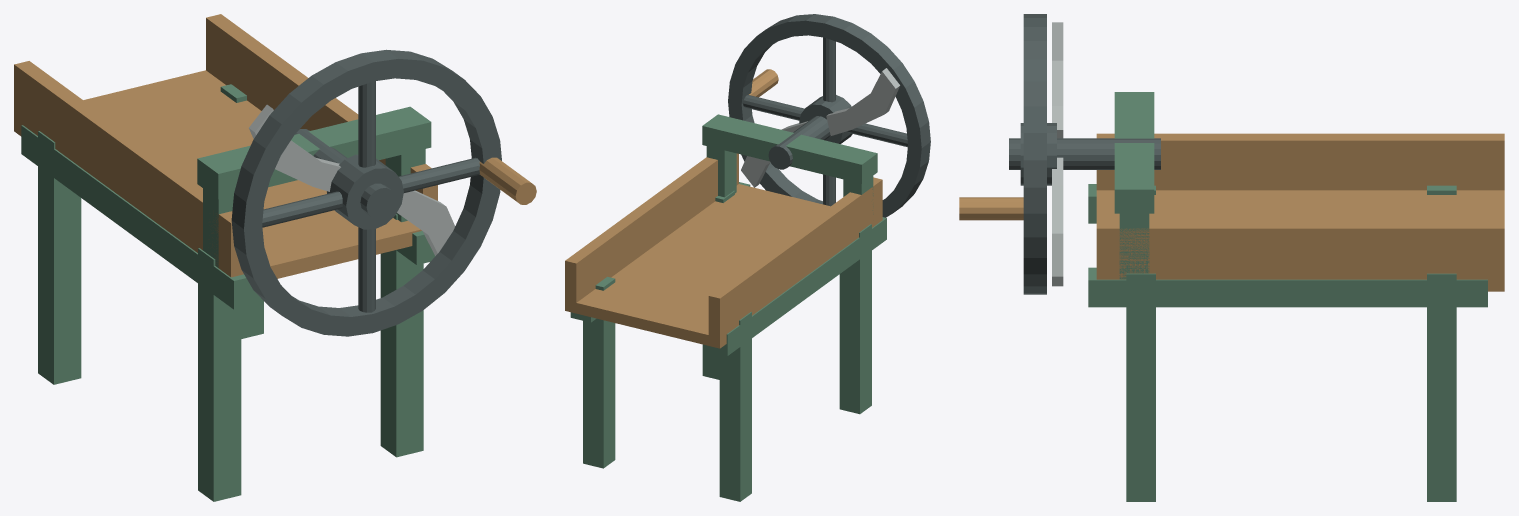
3 renders of one model, left to right at view 1: azimuth 30°, elevation 25°; view 2: azimuth 150°, elevation 25°; view 3: azimuth 270°, elevation 25°, orthographic. The views are drawn at different scales.
Parts seen in each view (by area): view 1: WholeLongOpenThickFeedTrough, WholeOpenFlywheelRim, WholeGroundLeg00, WholeGroundLeg01, WholeGroundLeg10, WholeLongitudinalSupportRail0, WholeElevatedTransverseBearingBridge, WholeWheelCentralHub, WholeFixedSweptBladeSilhouette1, WholeFixedSweptBladeSilhouette0, WholeFixedHeadAxle, WholeFixedWheelSpoke1 (+8 smaller); view 2: WholeLongOpenThickFeedTrough, WholeOpenFlywheelRim, WholeElevatedTransverseBearingBridge, WholeGroundLeg01, WholeGroundLeg00, WholeGroundLeg11, WholeLongitudinalSupportRail0, WholeFixedSweptBladeSilhouette1, WholeFixedHeadAxle, WholeElevatedAxleBridgePost1, WholeWheelCentralHub, WholeFixedWheelSpoke0 (+5 smaller); view 3: WholeLongOpenThickFeedTrough, WholeLongitudinalSupportRail1, WholeGroundLeg10, WholeGroundLeg11, WholeOpenFlywheelRim, WholeElevatedTransverseBearingBridge, WholeFixedHeadAxle, WholeElevatedAxleBridgePost1, WholeOutboardWoodenCrankGrip, WholeFixedSweptBladeSilhouette0, WholeFixedSweptBladeSilhouette1, WholeWheelCentralHub.
Boxes of the visible parts, box(x1,y1,x2,y2) form: WholeLongOpenThickFeedTrough: box(14, 14, 437, 278); WholeOpenFlywheelRim: box(231, 49, 501, 336); WholeGroundLeg00: box(198, 248, 241, 501); WholeGroundLeg01: box(38, 131, 81, 384); WholeGroundLeg10: box(380, 214, 423, 457); WholeLongitudinalSupportRail0: box(21, 125, 261, 309); WholeElevatedTransverseBearingBridge: box(197, 106, 431, 199); WholeWheelCentralHub: box(327, 154, 403, 229); WholeFixedSweptBladeSilhouette1: box(249, 104, 340, 191); WholeFixedSweptBladeSilhouette0: box(397, 190, 455, 255); WholeFixedHeadAxle: box(295, 129, 395, 218); WholeFixedWheelSpoke1: box(358, 81, 375, 167); WholeLongOpenThickFeedTrough: box(565, 153, 882, 348); WholeOpenFlywheelRim: box(728, 14, 930, 217); WholeElevatedTransverseBearingBridge: box(702, 114, 877, 183); WholeGroundLeg01: box(719, 312, 751, 501); WholeGroundLeg00: box(839, 224, 871, 414); WholeGroundLeg11: box(583, 276, 615, 468); WholeLongitudinalSupportRail0: box(707, 217, 886, 355); WholeFixedSweptBladeSilhouette1: box(826, 68, 900, 135); WholeFixedHeadAxle: box(768, 116, 830, 169); WholeElevatedAxleBridgePost1: box(706, 146, 736, 197); WholeWheelCentralHub: box(799, 95, 852, 143); WholeFixedWheelSpoke0: box(743, 95, 804, 120); WholeLongOpenThickFeedTrough: box(1096, 133, 1504, 291); WholeLongitudinalSupportRail1: box(1088, 267, 1487, 307); WholeGroundLeg10: box(1126, 273, 1155, 501); WholeGroundLeg11: box(1427, 273, 1456, 501); WholeOpenFlywheelRim: box(1023, 14, 1046, 294); WholeElevatedTransverseBearingBridge: box(1114, 92, 1154, 213); WholeFixedHeadAxle: box(1009, 138, 1160, 169); WholeElevatedAxleBridgePost1: box(1119, 213, 1149, 279); WholeOutboardWoodenCrankGrip: box(959, 197, 1023, 220); WholeFixedSweptBladeSilhouette0: box(1052, 157, 1063, 286); WholeFixedSweptBladeSilhouette1: box(1052, 22, 1063, 138); WholeWheelCentralHub: box(1020, 123, 1056, 185).
Size of the model in its own units: 0.85 by 1.42 by 1.65.
